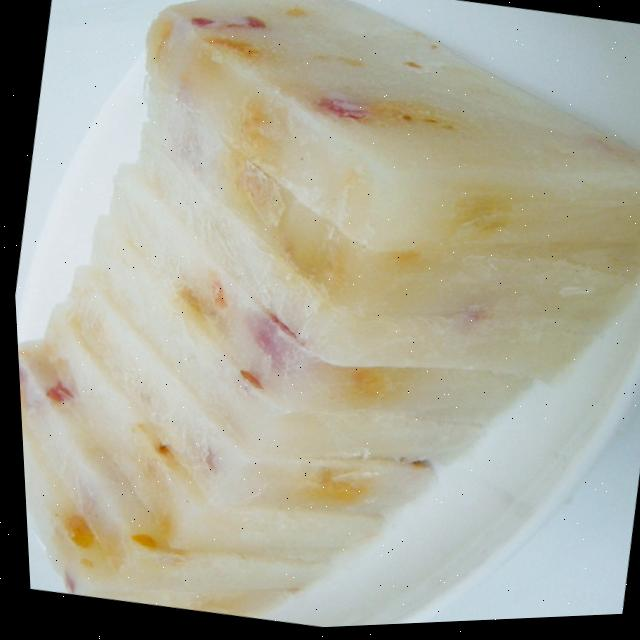蛋糕甜品: (0, 0, 625, 640)
